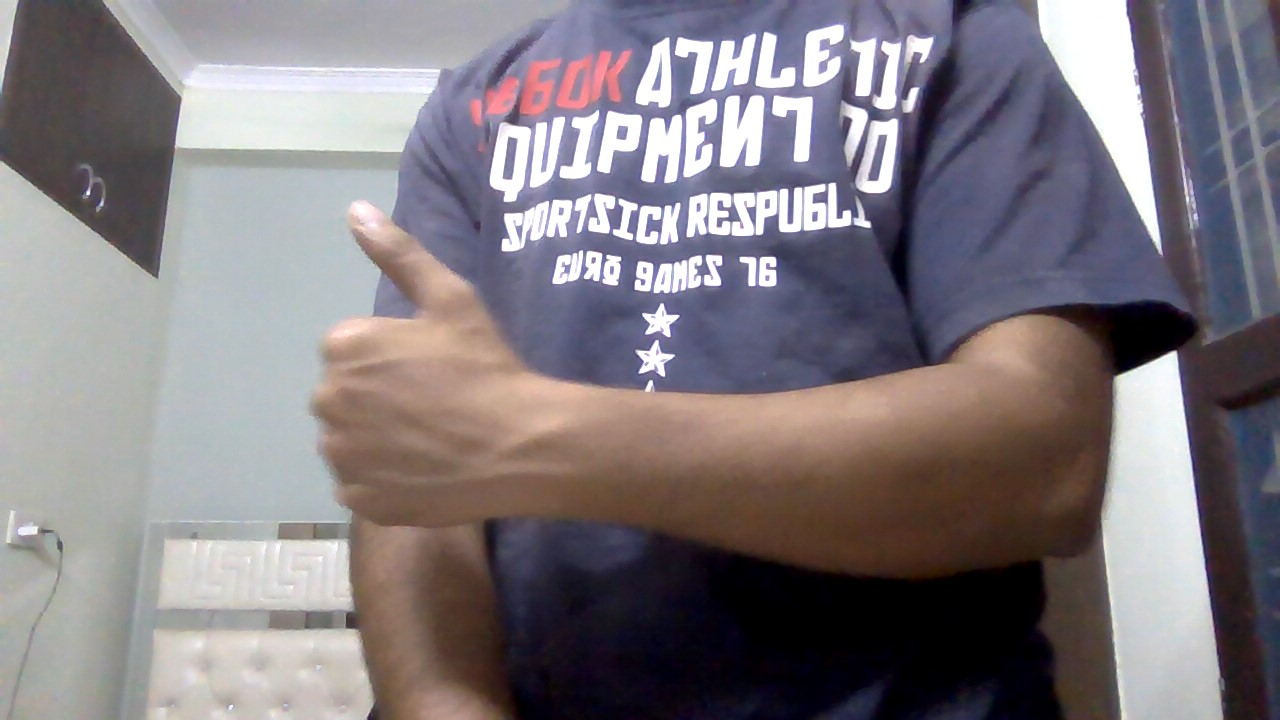Save: (303, 182, 559, 544)
